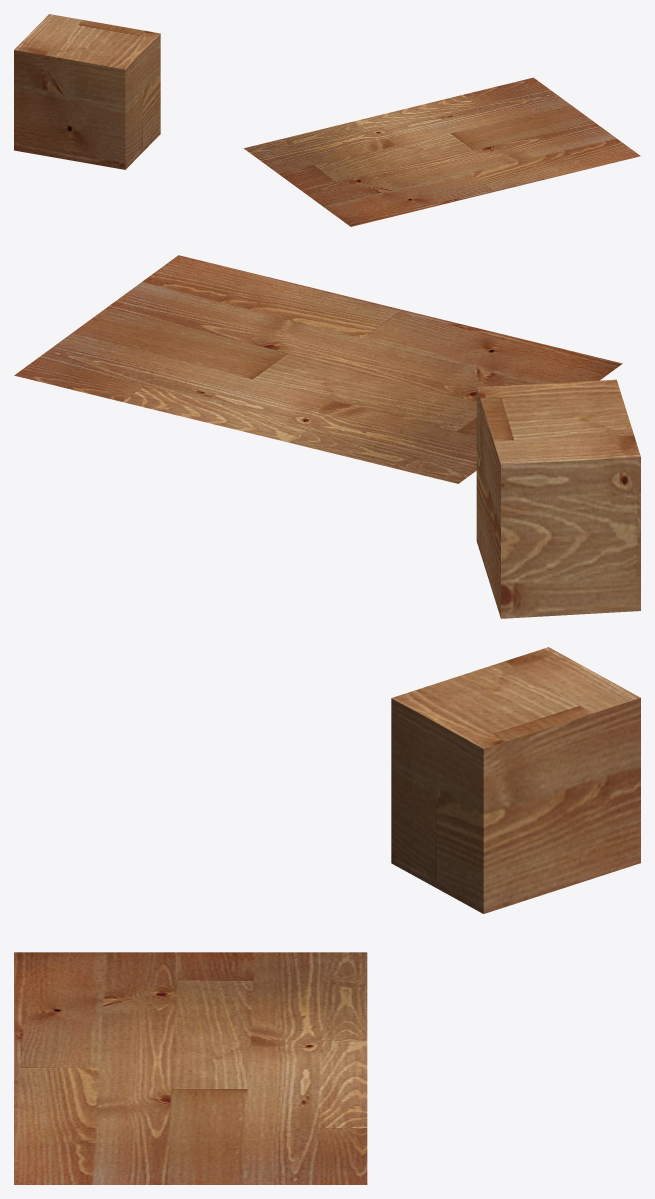
Rendered from TestScene.dae.
3 renders of one model, top to bottom at view 1: azimuth 30°, elevation 25°; view 2: azimuth 150°, elevation 25°; view 3: azimuth 270°, elevation 25°, orthographic. The views are drawn at different scales.
Visible parts, largest first — view 1: pPlane1, pCube1; view 2: pPlane1, pCube1; view 3: pPlane1, pCube1.
Part boxes in pixels (x1,y1,x2,y2): pPlane1: (244, 77, 640, 226); pCube1: (14, 14, 160, 169); pPlane1: (14, 255, 622, 483); pCube1: (476, 379, 640, 618); pPlane1: (14, 952, 367, 1184); pCube1: (391, 647, 640, 913).
Size of the model in its own units: 11.67 by 2.41 by 8.3.
